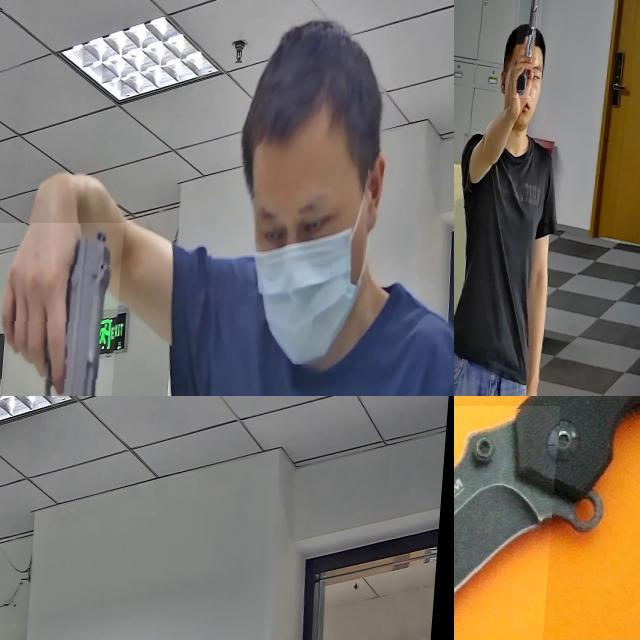-: (454, 405, 619, 640)
gun-knife-thesis - v11 Yolov5 augmented: (0, 222, 128, 396), (0, 517, 30, 640), (515, 0, 544, 97)
